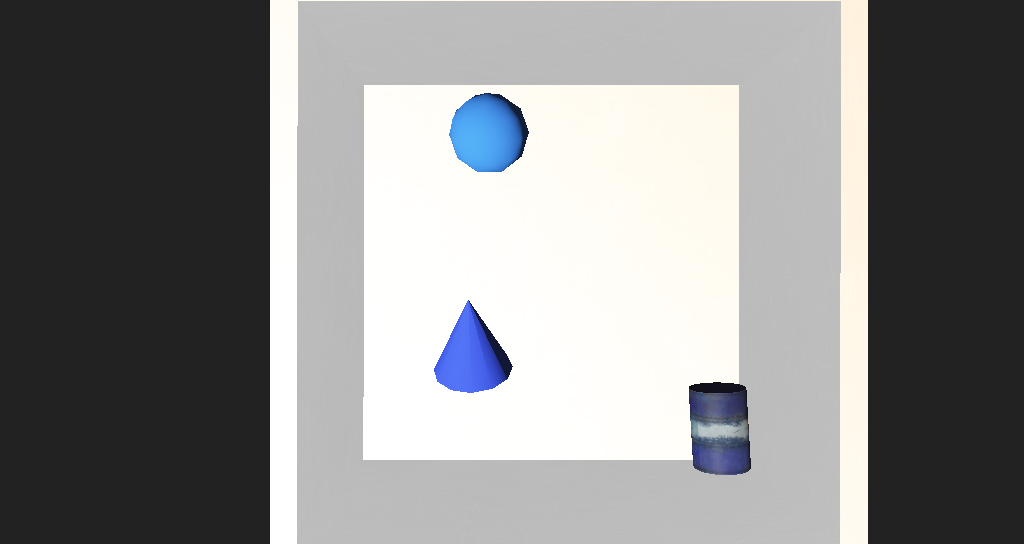cone: (613, 332, 667, 384)
cylinder: (404, 272, 472, 339)
sphere: (428, 169, 488, 212)
